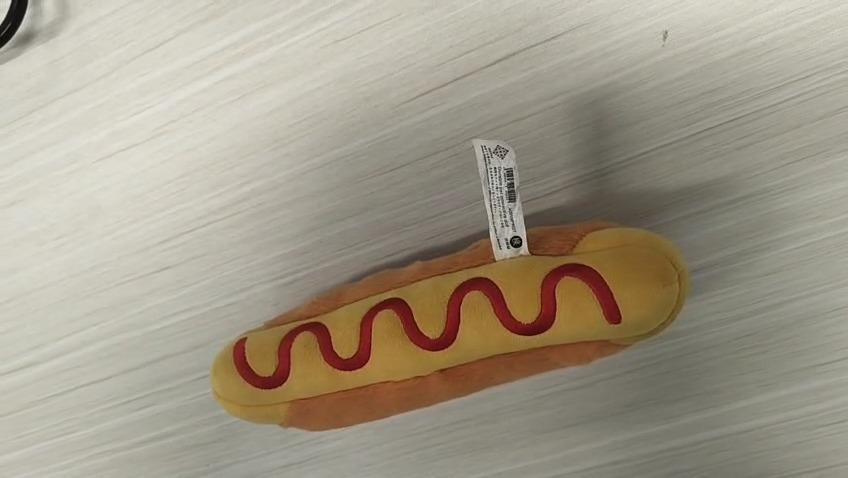hotdog: (209, 217, 689, 432)
